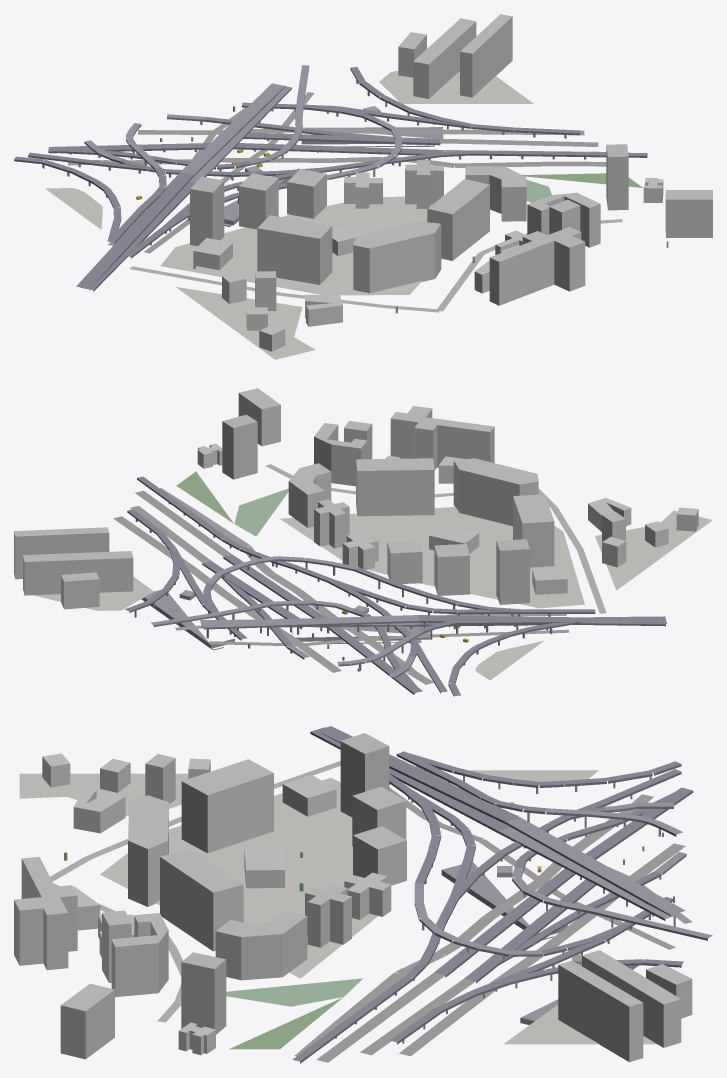
3 renders of one model, top to bottom at view 1: azimuth 30°, elevation 25°; view 2: azimuth 150°, elevation 25°; view 3: azimuth 270°, elevation 25°, orthographic. The views are drawn at different scales.
Size of the model in its own units: 620 by 88.42 by 533.
